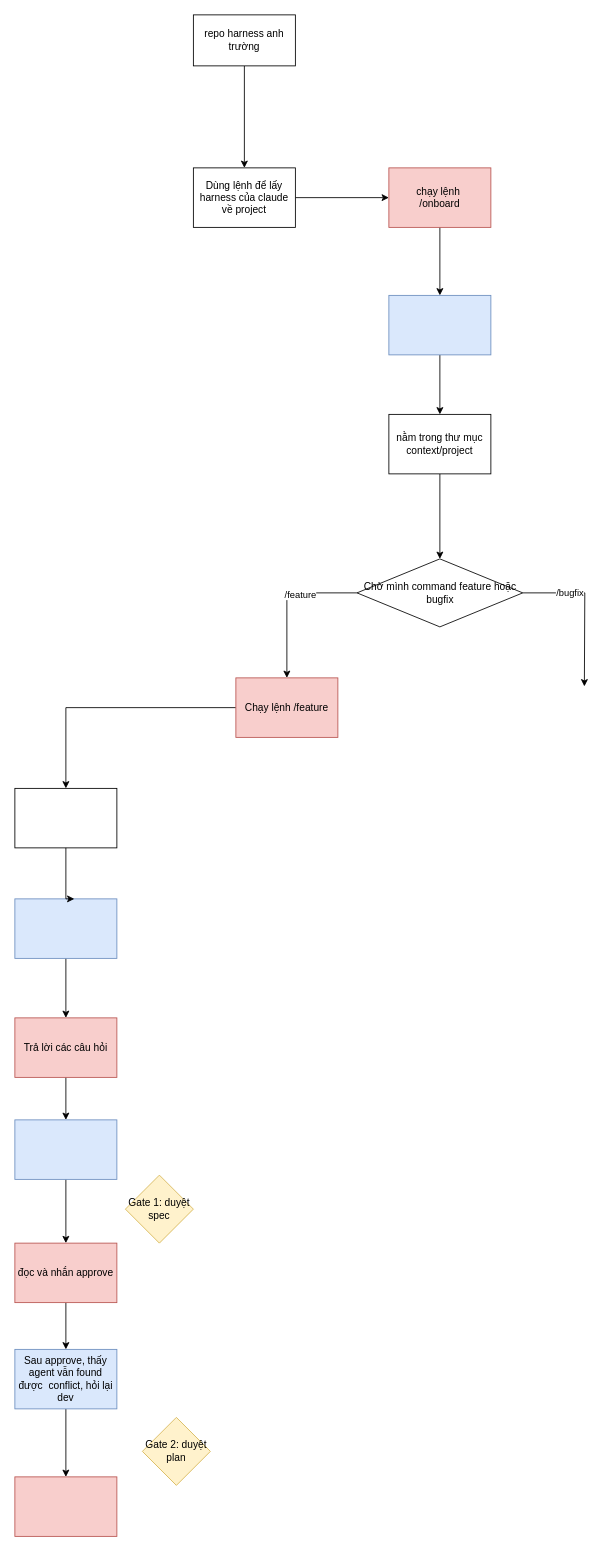
Image size: 607x1551. Some labels were removed from this diagram. Each missing label, with the centre of its shape:
"feature light mode dark mode" belongs at (65,818).
"hỏi các câu hỏi clarìy với ngừoi dùng" belongs at (65,928).
"lấy context phần mềm" belongs at (439,325).
"Thêm status, spec, dicussion.md trong - context/features" belongs at (65,1149).
"đọc và trả lời câu hỏi" belongs at (65,1506).
